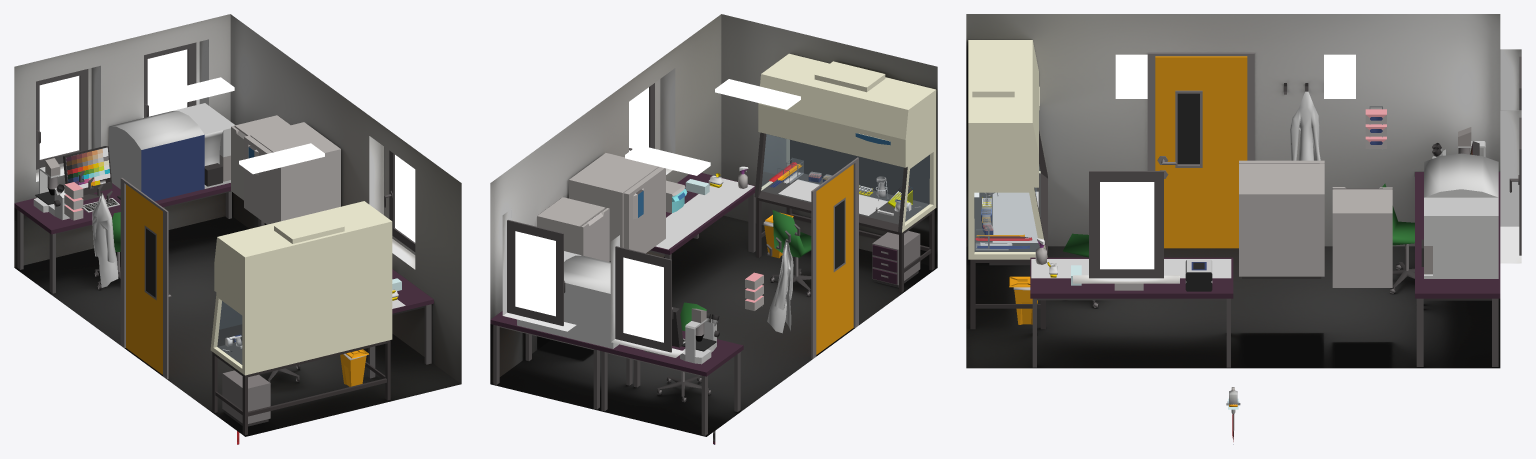
File: lab.glb
3 renders of one model, left to right at view 1: azimuth 30°, elevation 25°; view 2: azimuth 150°, elevation 25°; view 3: azimuth 270°, elevation 25°, orthographic. The views are drawn at different scales.
Visible parts, largest first — view 1: walls_lm, hood, windows, fax_sorter, door, tables, incubator_top, lights_ceiling, incubator_top_door, drawer, monitor, labcoat_baked (+6 smaller); view 2: walls_lm, hood, windows, door, tables, fax_sorter, incubator_top, incubator_top_door, lights_ceiling, dropzone_table, fridge, microscope (+7 smaller); view 3: walls_lm, door, hood, incubator_top, fax_sorter, windows, tables, fridge, lights_ceiling, dropzone_hood, dropzone_table, labcoat_baked (+5 smaller).
Part boxes in pixels (x1,y1,x2,y2): walls_lm: [14, 14, 461, 436]; hood: [210, 201, 392, 435]; windows: [36, 42, 415, 251]; fax_sorter: [109, 103, 234, 201]; door: [120, 178, 171, 379]; tables: [14, 183, 433, 378]; incubator_top: [250, 122, 340, 219]; lights_ceiling: [149, 77, 324, 174]; incubator_top_door: [244, 135, 286, 224]; drawer: [222, 370, 270, 426]; monitor: [63, 146, 112, 200]; labcoat_baked: [92, 193, 118, 287]; walls_lm: [490, 14, 937, 436]; hood: [754, 53, 936, 292]; windows: [507, 83, 673, 352]; door: [811, 157, 858, 358]; tables: [490, 173, 755, 435]; fax_sorter: [517, 251, 618, 348]; incubator_top: [569, 153, 658, 262]; incubator_top_door: [623, 167, 665, 253]; lights_ceiling: [625, 79, 800, 175]; dropzone_table: [655, 178, 754, 249]; fridge: [537, 197, 605, 254]; microscope: [680, 308, 719, 364]; walls_lm: [966, 14, 1521, 368]; door: [1147, 52, 1254, 248]; hood: [968, 40, 1047, 329]; incubator_top: [1239, 164, 1324, 278]; fax_sorter: [1421, 153, 1498, 278]; windows: [1089, 56, 1521, 278]; tables: [1030, 172, 1500, 367]; fridge: [1332, 189, 1392, 287]; lights_ceiling: [1115, 54, 1355, 98]; dropzone_hood: [992, 191, 1038, 242]; dropzone_table: [1031, 259, 1231, 278]; labcoat_baked: [1290, 91, 1320, 160].
Size of the model in its own units: 2.9 by 3.82 by 5.2.
16 materials, 12 textured.
